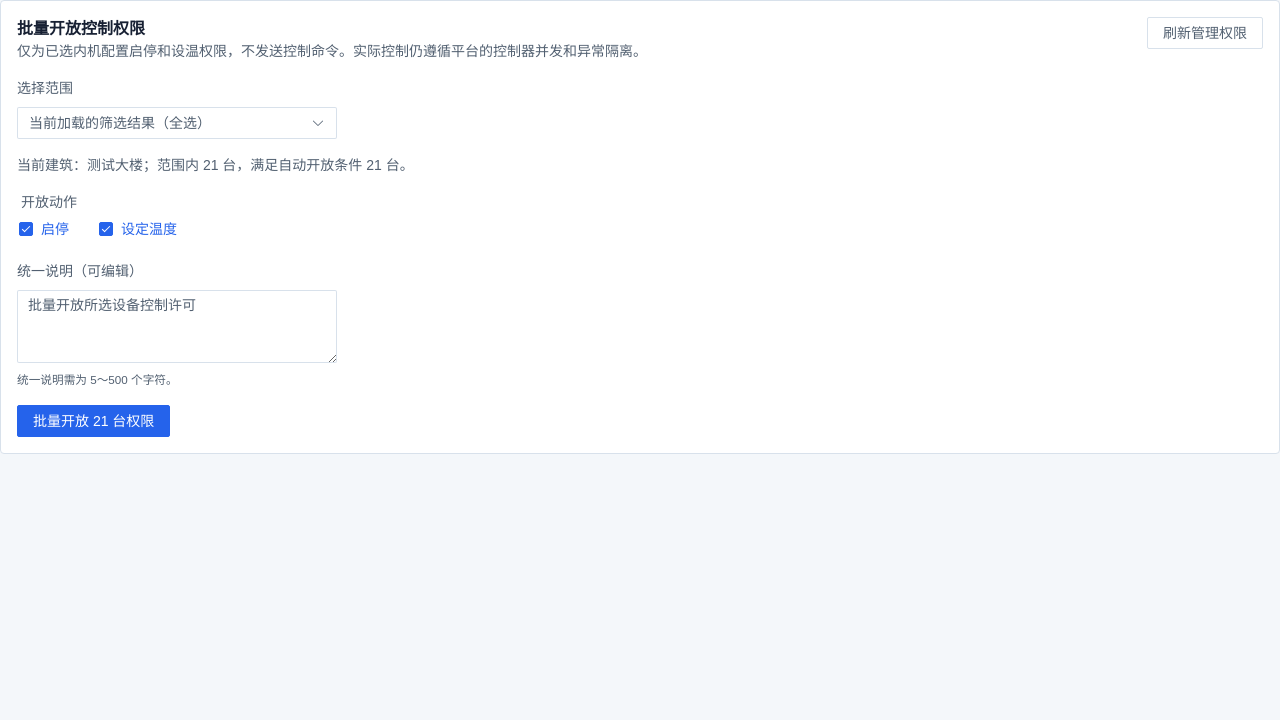
批量设备控制权限入口 › 按 10 台顺序提交，某批失败后保留已返回结果并标明未知和未处理设备
The width and height of the screenshot is (1280, 720).
Replace the text in the text box labelled "统一说明（可编辑） 统一说明需为 5～500 个字符。" with "统一开放当前办公区设备控制权限": (177, 326) 17,290 -> 337,363
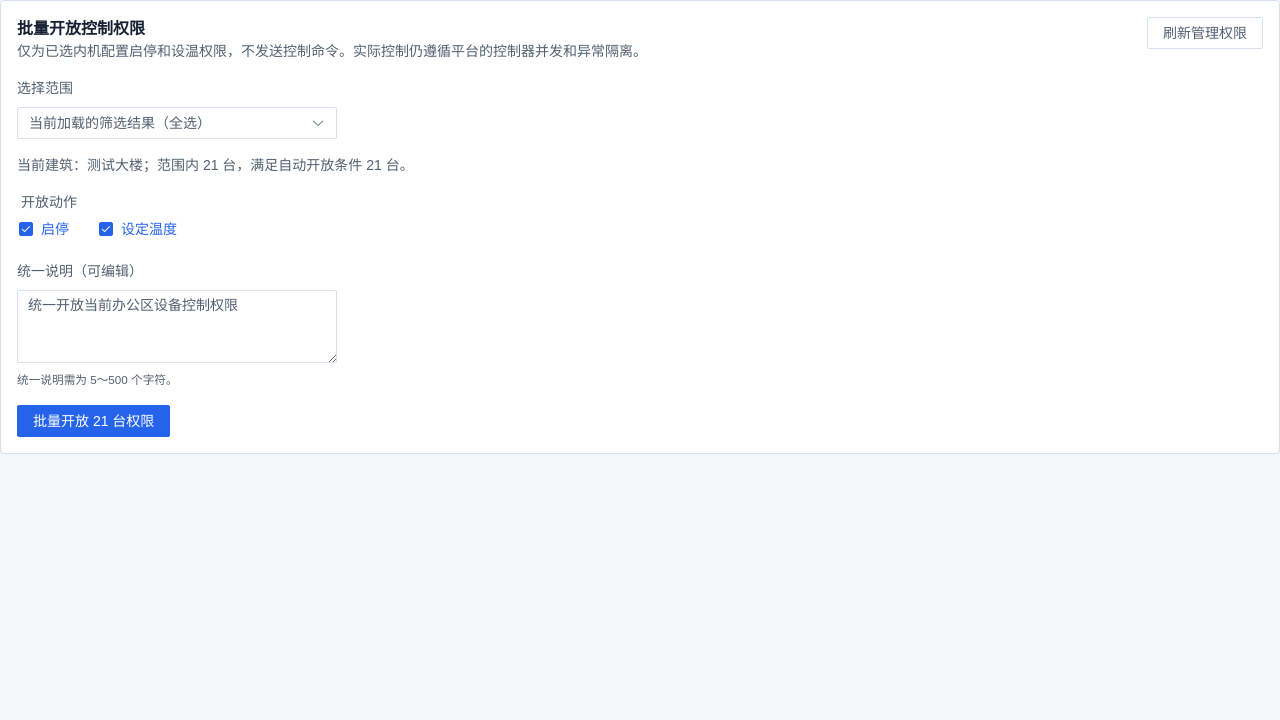
Click the button with test id "submit-device-grants": (94, 420) 17,404 -> 170,436
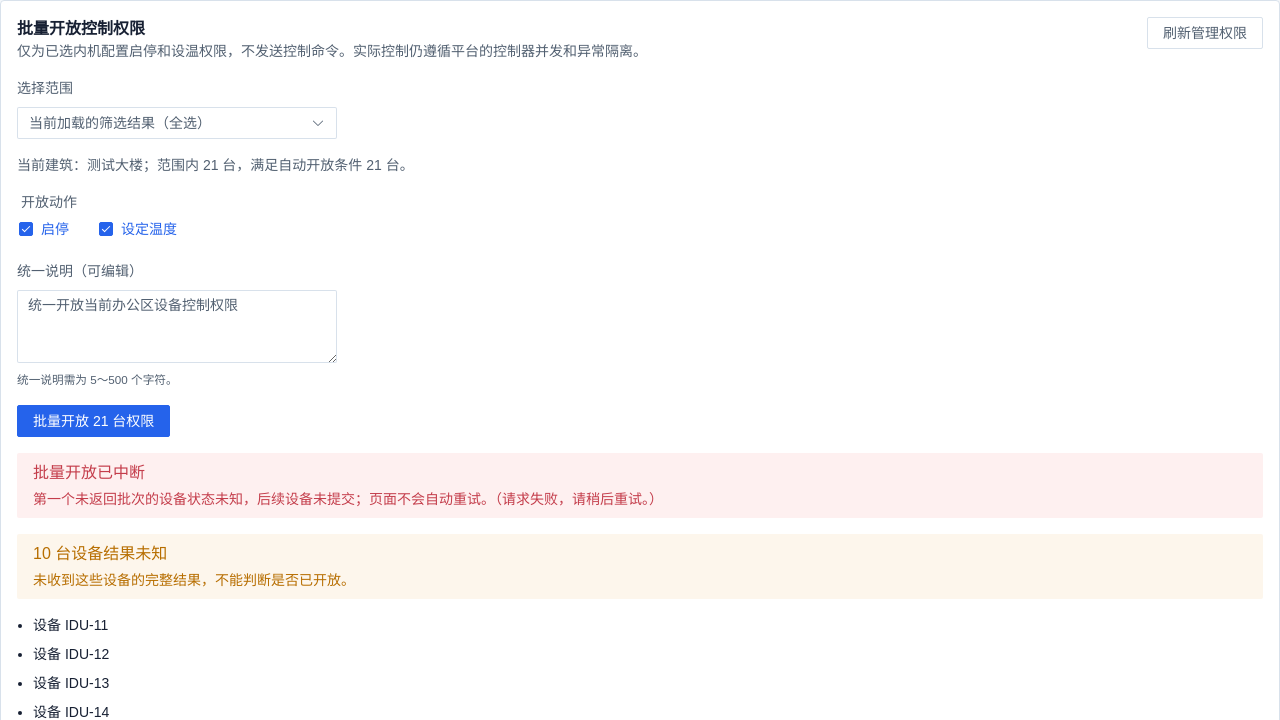
Check: the text "10 台设备结果未知" is shown, box 33,544 -> 167,562
Check: the text "页面不会自动重试" is shown, box 33,490 -> 663,506
